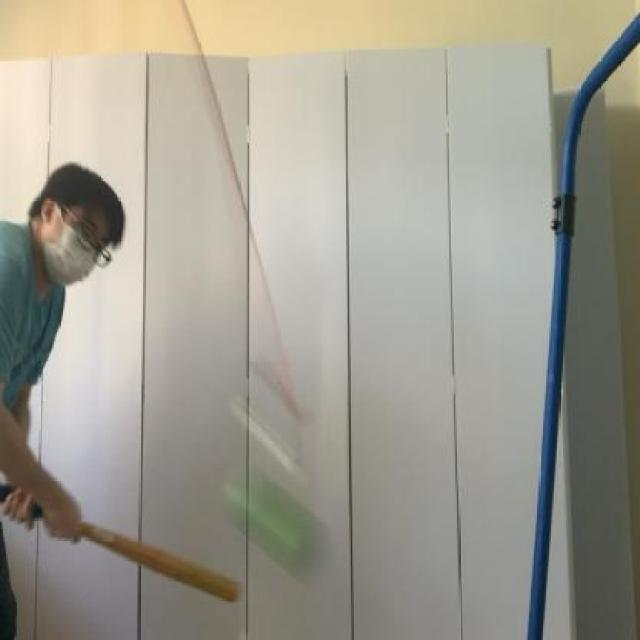baseball: (216, 450, 342, 582)
